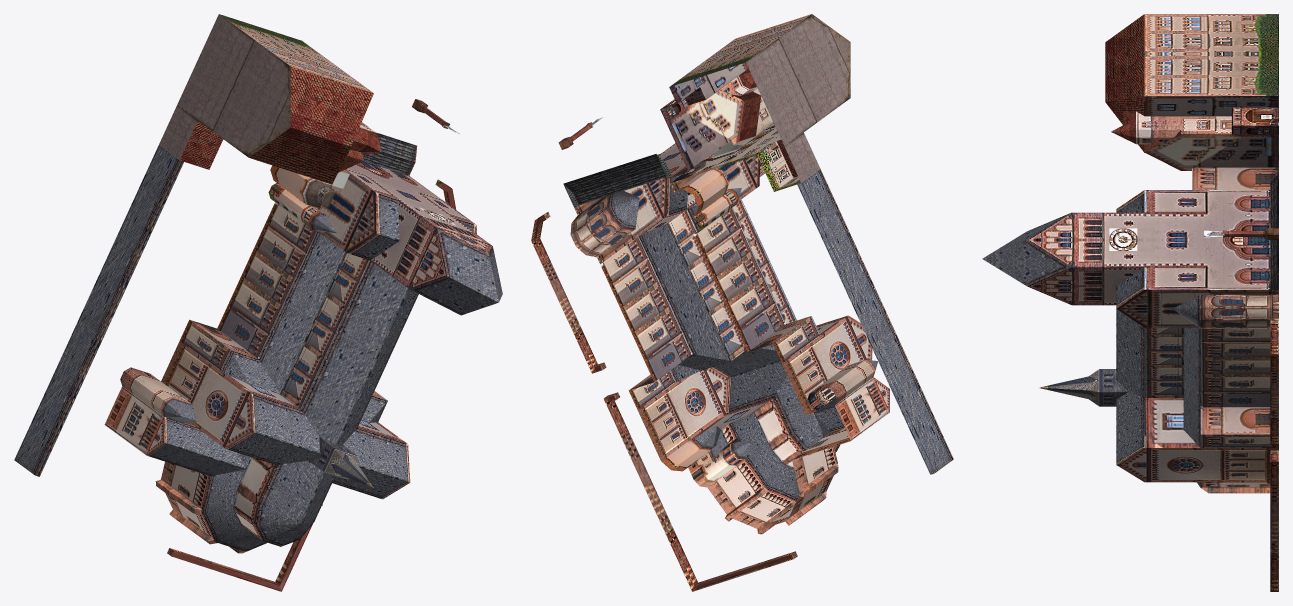
Rendered from DEU_596_KARLSRUHE_BONIFAT_S.OBJ.
The picture shows the model from 3 angles, left to right: view 1: azimuth 30°, elevation 25°; view 2: azimuth 150°, elevation 25°; view 3: azimuth 270°, elevation 25°; orthographic projection. The views are drawn at different scales.
Visible parts, largest first — view 1: DEU_596_KARLSRUHE_BONIFAT_S; view 2: DEU_596_KARLSRUHE_BONIFAT_S; view 3: DEU_596_KARLSRUHE_BONIFAT_S.
Boxes of the visible parts, box(x1,y1,x2,y2) form: DEU_596_KARLSRUHE_BONIFAT_S: box(14, 14, 502, 591); DEU_596_KARLSRUHE_BONIFAT_S: box(531, 14, 953, 591); DEU_596_KARLSRUHE_BONIFAT_S: box(982, 14, 1278, 591).
Size of the model in its own units: 76.77 by 98.66 by 48.13.
1 material, 1 textured.
